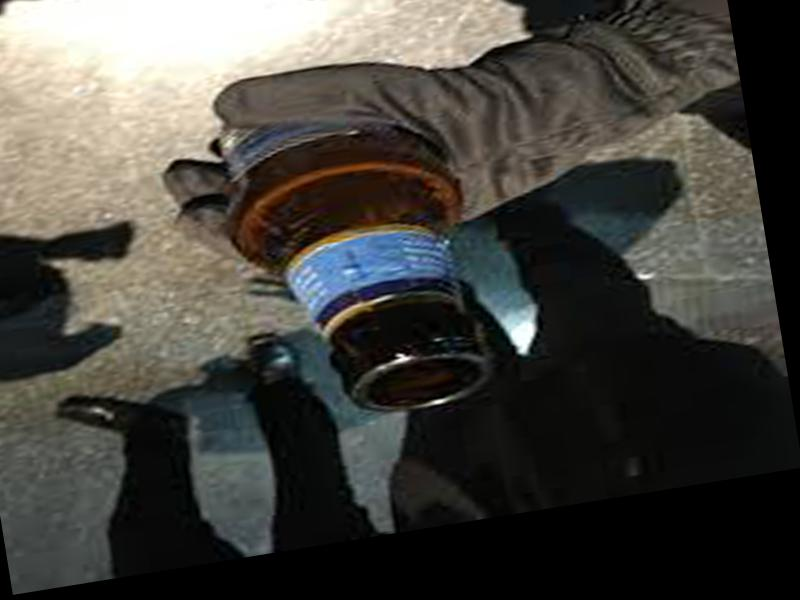Beer: (196, 66, 502, 436)
